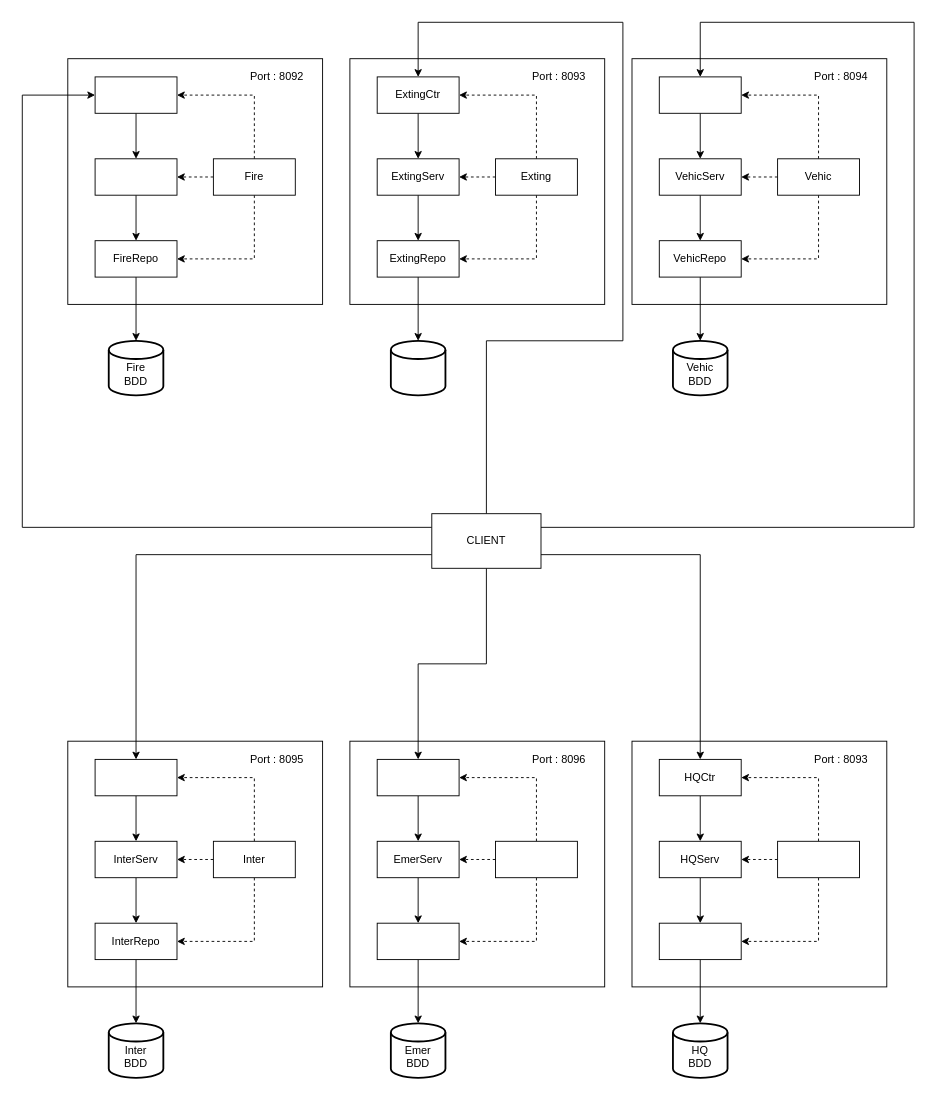
Some shapes in this 937 by 1095 pixel diagram are drawn without their labels. The shapes that lost their labels are listed below. From the top down, each one's centre as x and y in pixels, then its label:
the point at 135,94: FireCtr
the point at 699,94: VehicCtr
the point at 135,176: FireServ
the point at 417,367: Exting BDD
the point at 135,777: InterCtr
the point at 417,777: EmerCtr
the point at 536,859: Emer
the point at 818,859: HQ
the point at 417,941: EmerRepo
the point at 699,941: HQRepo
